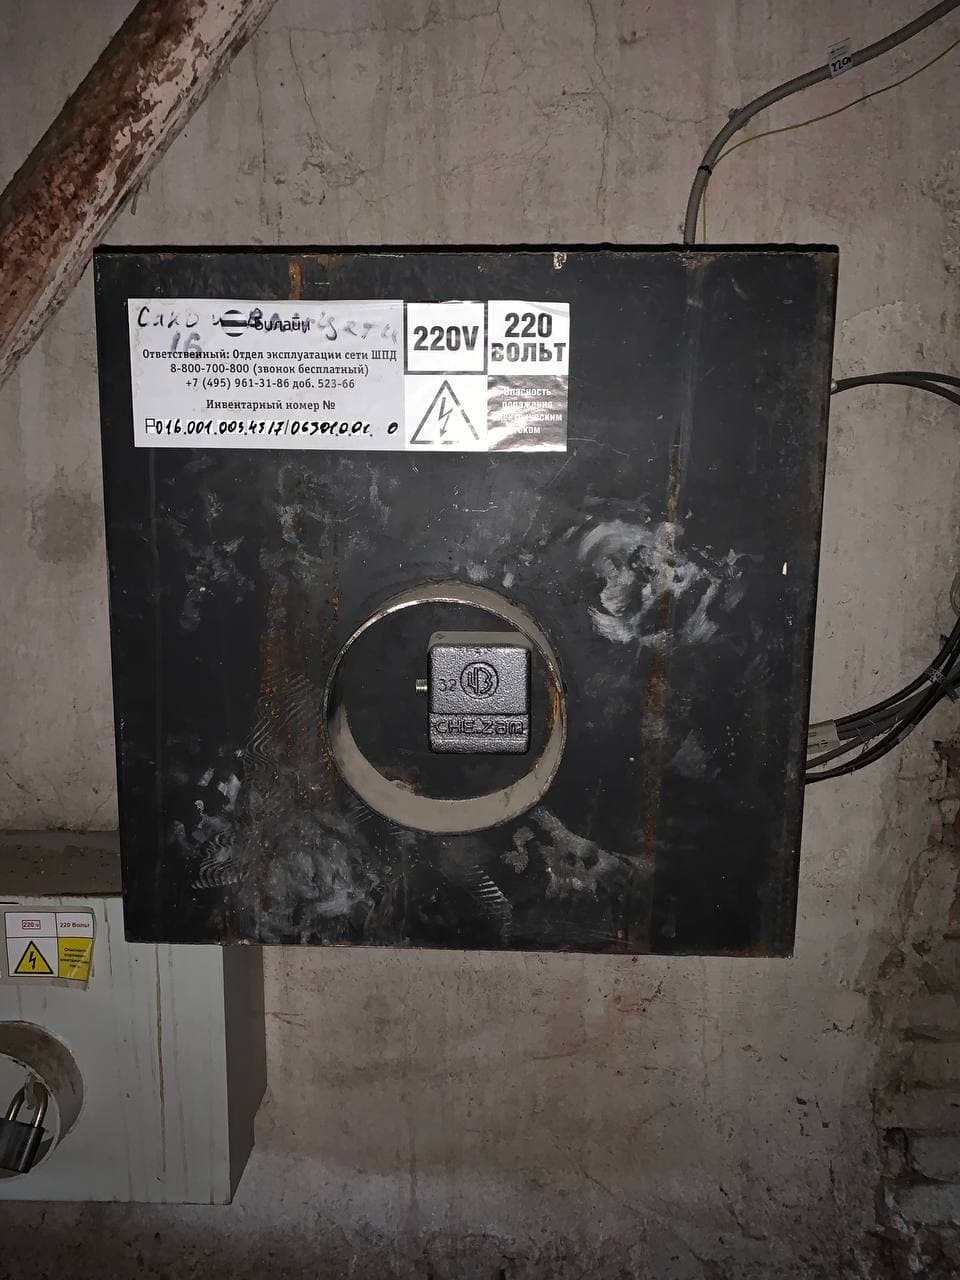shta-3: (3, 819, 268, 1211)
shta-9: (76, 226, 858, 970)
